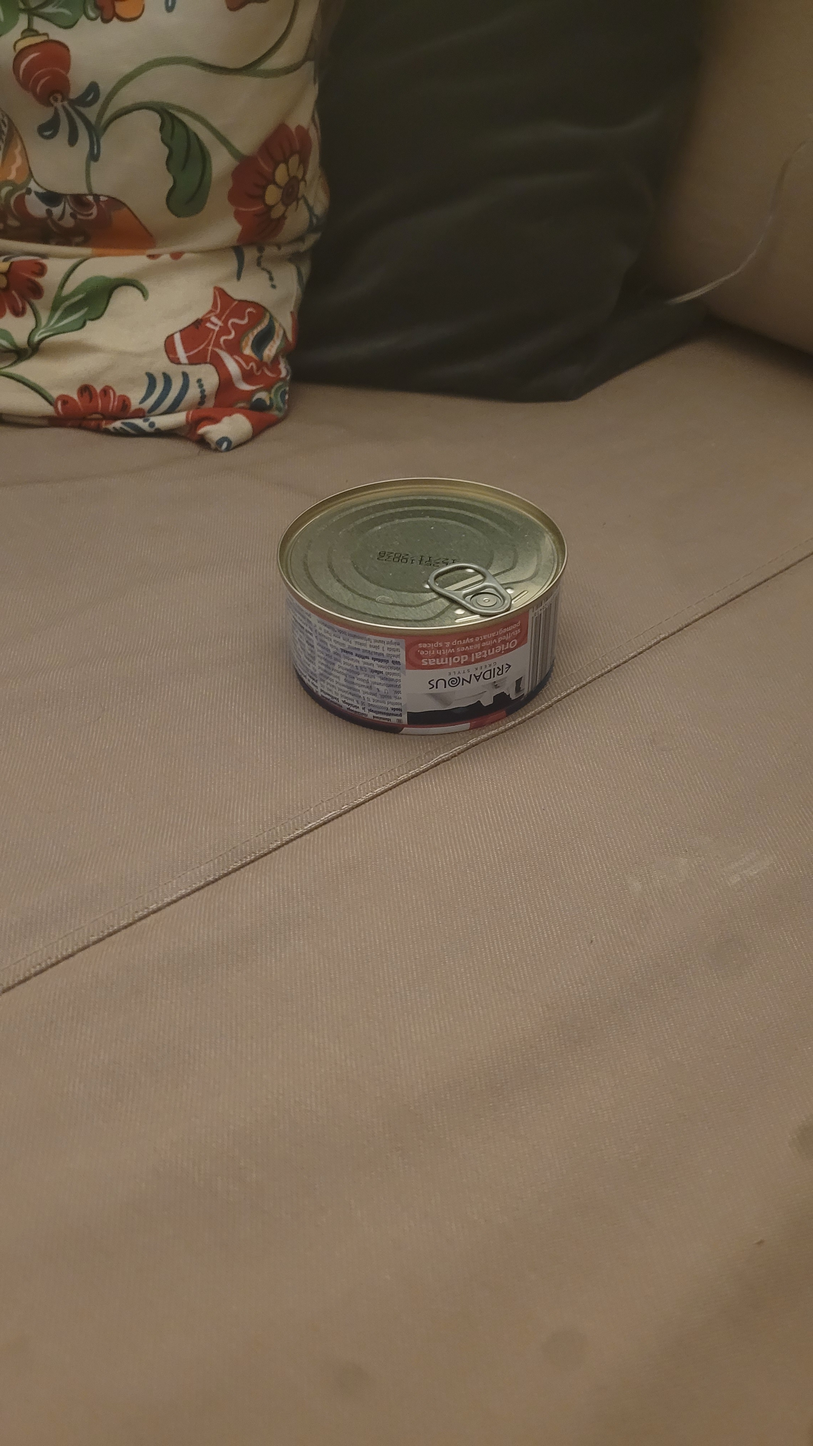Konservburk: (278, 477, 567, 738)
